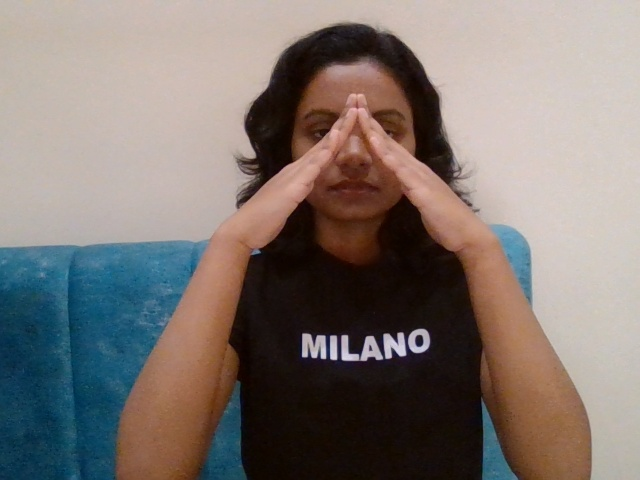House: (181, 86, 535, 306)
